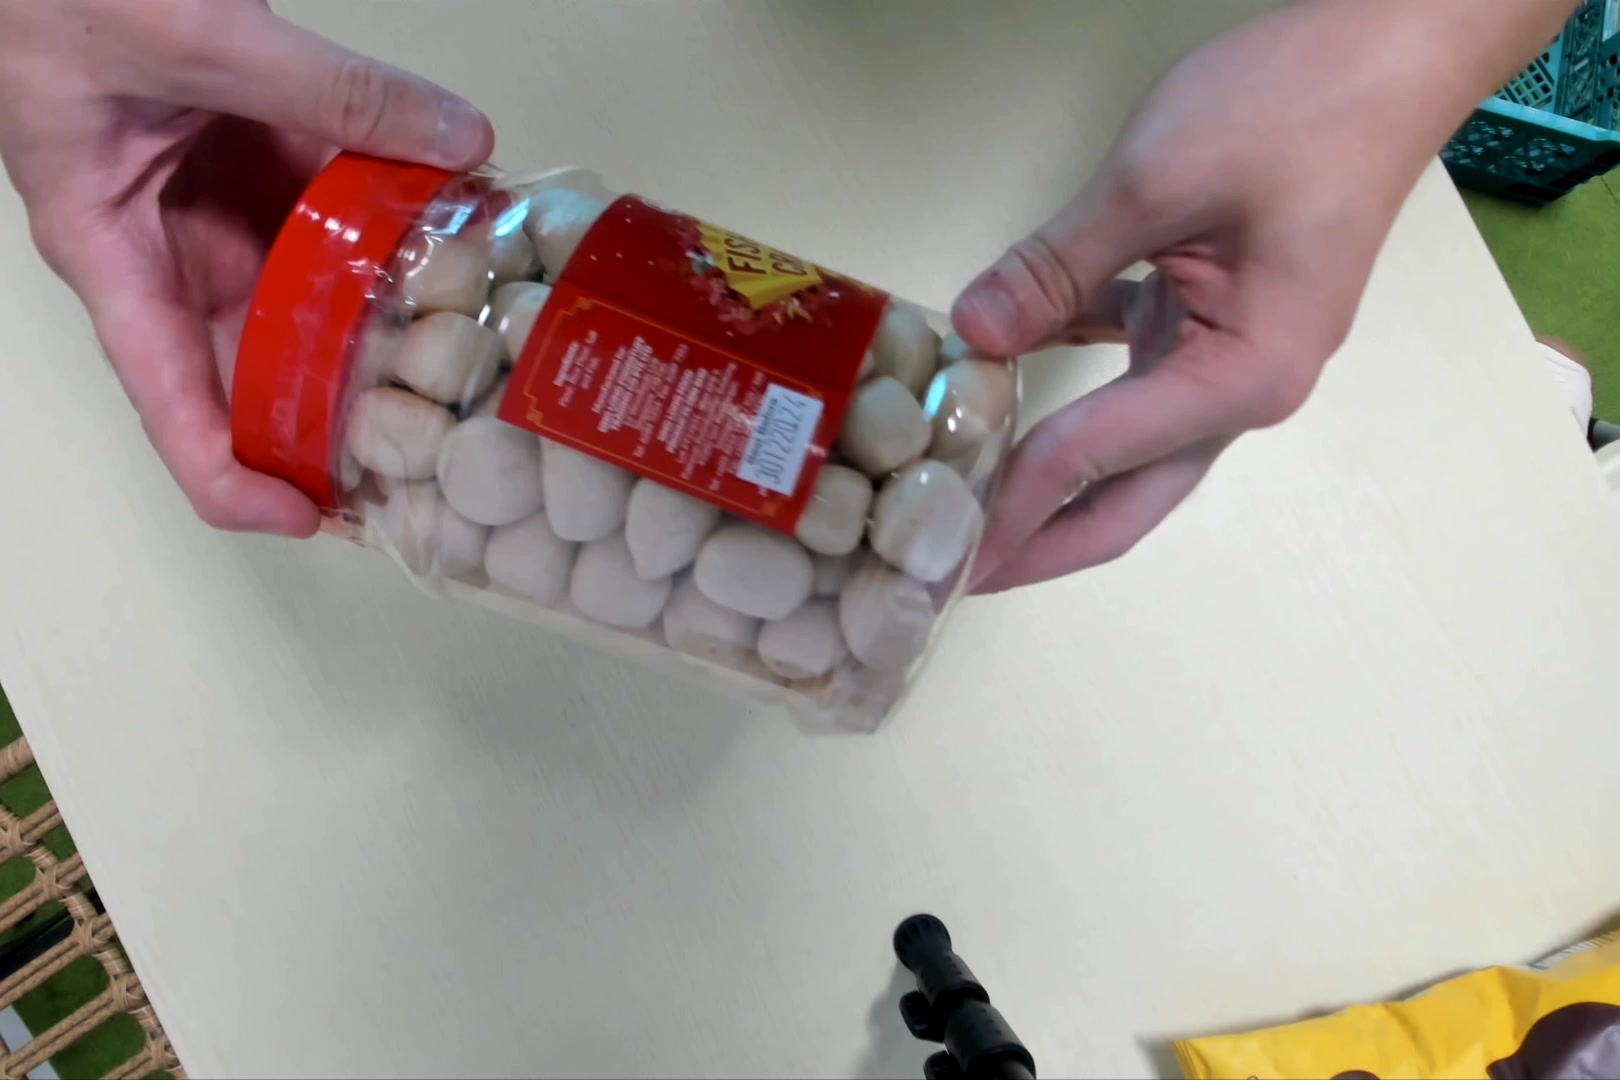PotatoChipsKeropok_100-199g_NonHalal_NonHealthy: (218, 147, 1029, 750)
